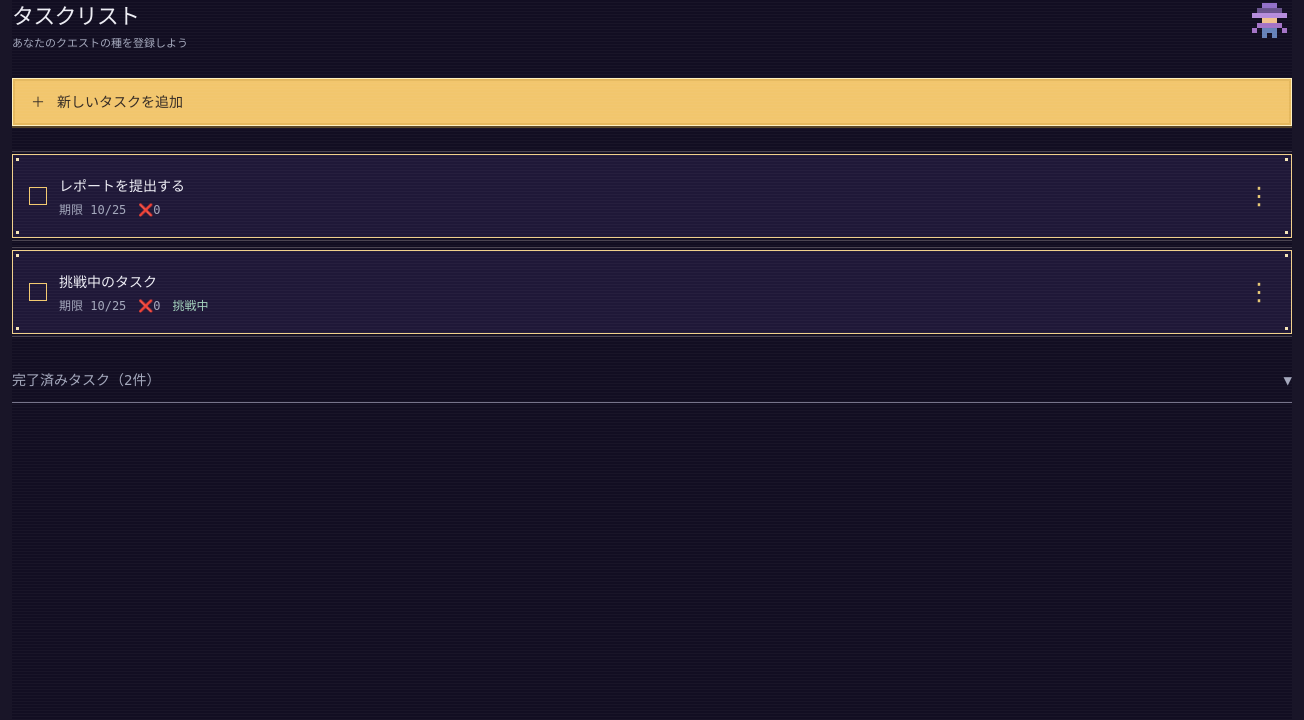
Test case: 完了済みタスクのアコーディオン › 未完了と挑戦中は表示を保ち、完了済みだけを繰り返し開閉する
Click the text "完了済みタスク（2件）" at [86, 380], box [12,370,160,390]
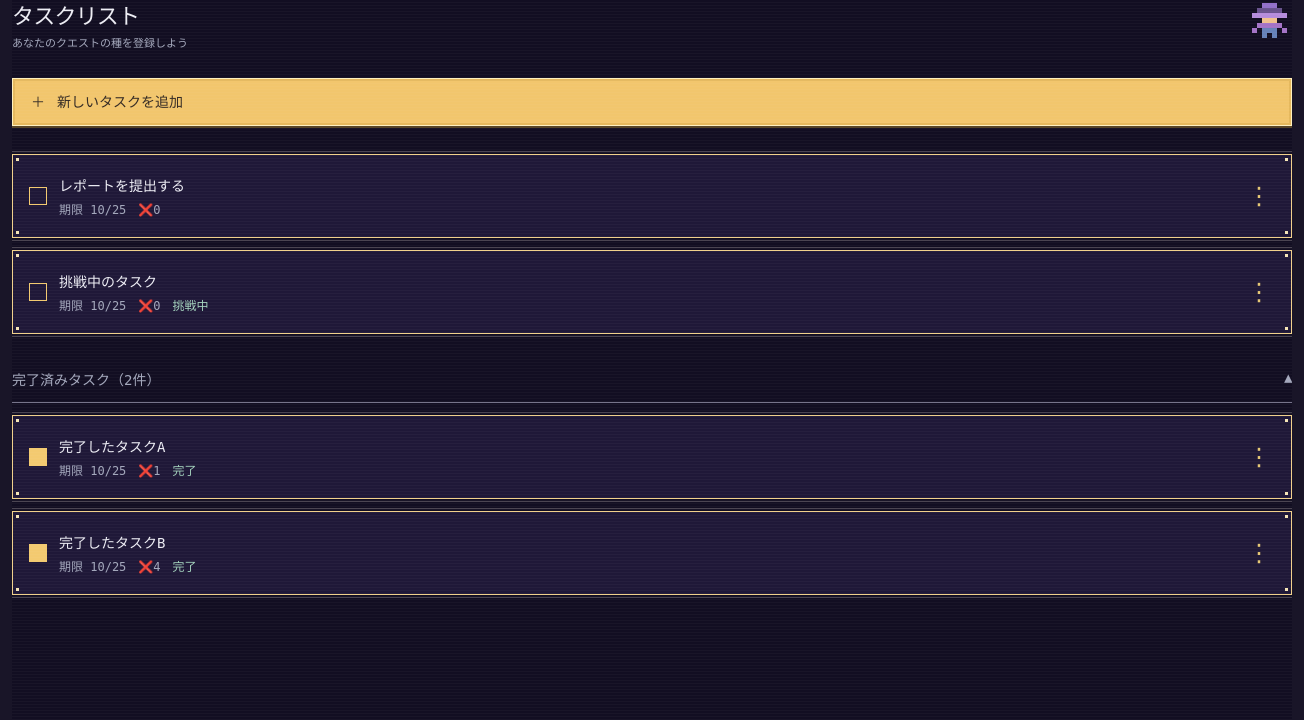
expect the list named "完了済みタスク" is shown: met, box [12,415,1292,595]
Click the text "完了済みタスク（2件）" at [86, 380], box [12,370,160,390]
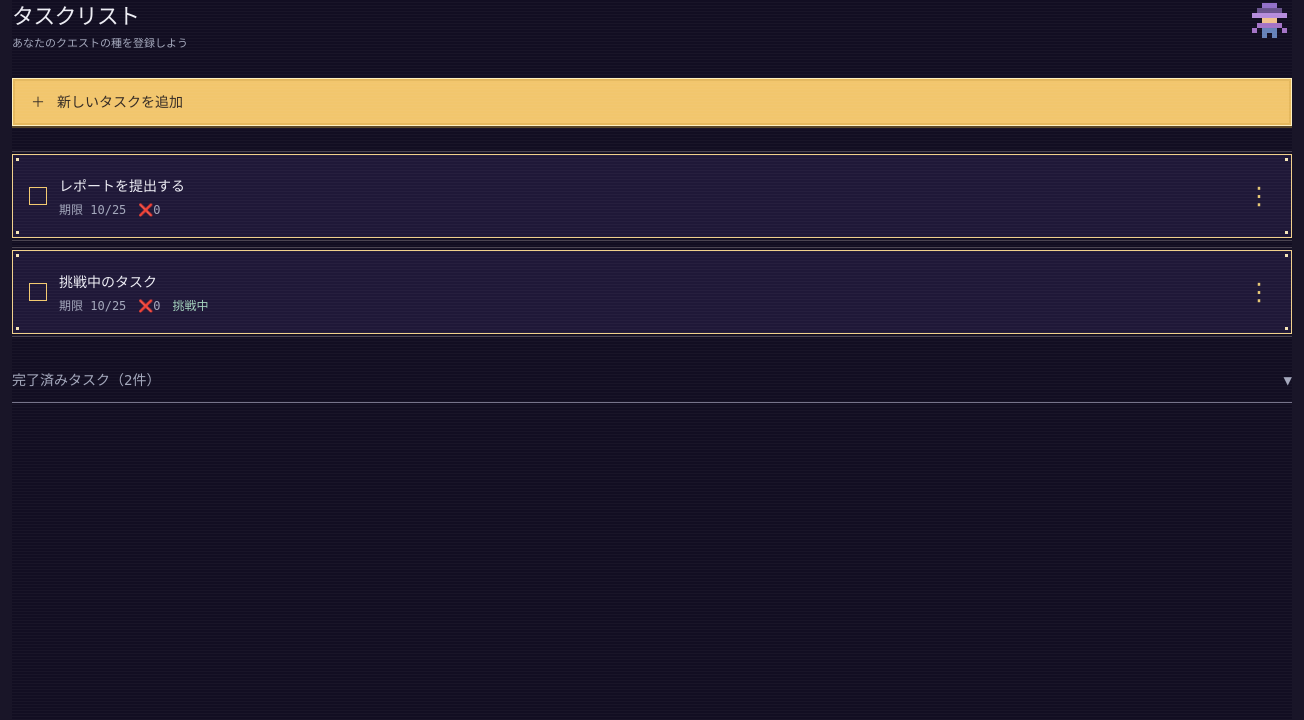
expect the text "レポートを提出する" is shown: met, box [59,178,185,194]
expect the text "挑戦中のタスク" is shown: met, box [59,274,157,290]
Click the text "完了済みタスク（2件）" at [86, 380], box [12,370,160,390]
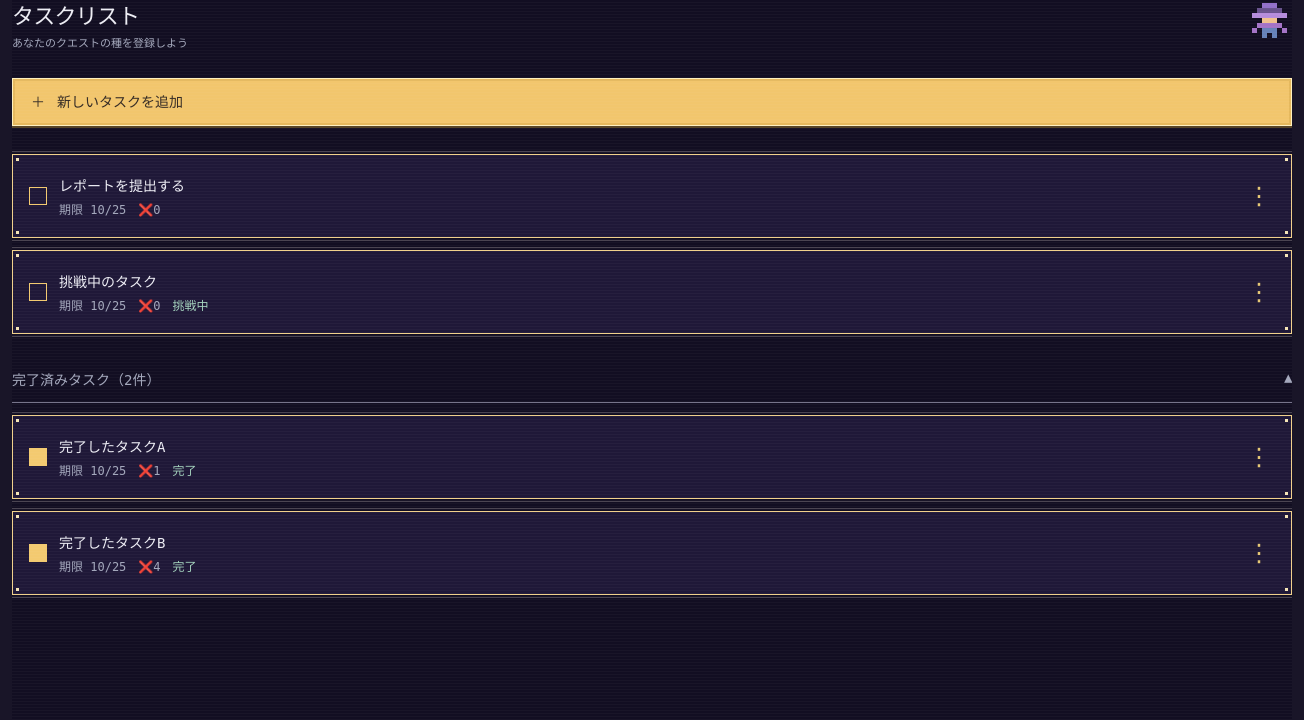
expect the list named "完了済みタスク" is shown: met, box [12,415,1292,595]
